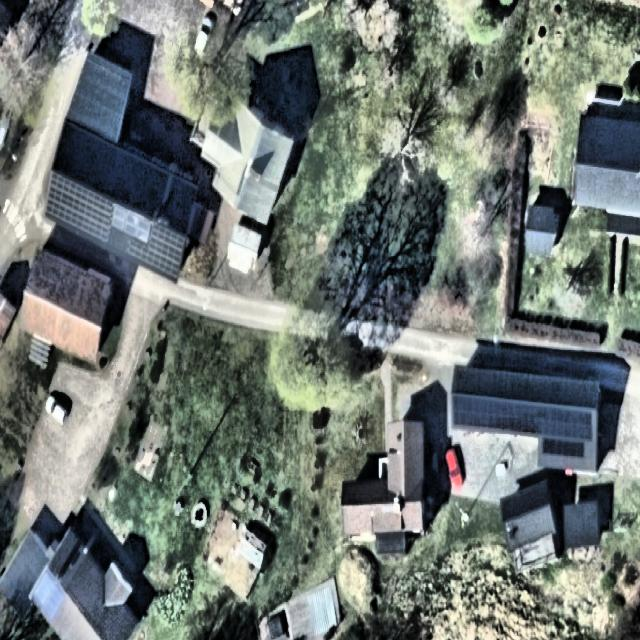roof_pv: (449, 396, 596, 440), (44, 168, 82, 233), (83, 185, 113, 247), (149, 224, 185, 250), (540, 442, 588, 461), (150, 253, 182, 277), (125, 242, 149, 262)
